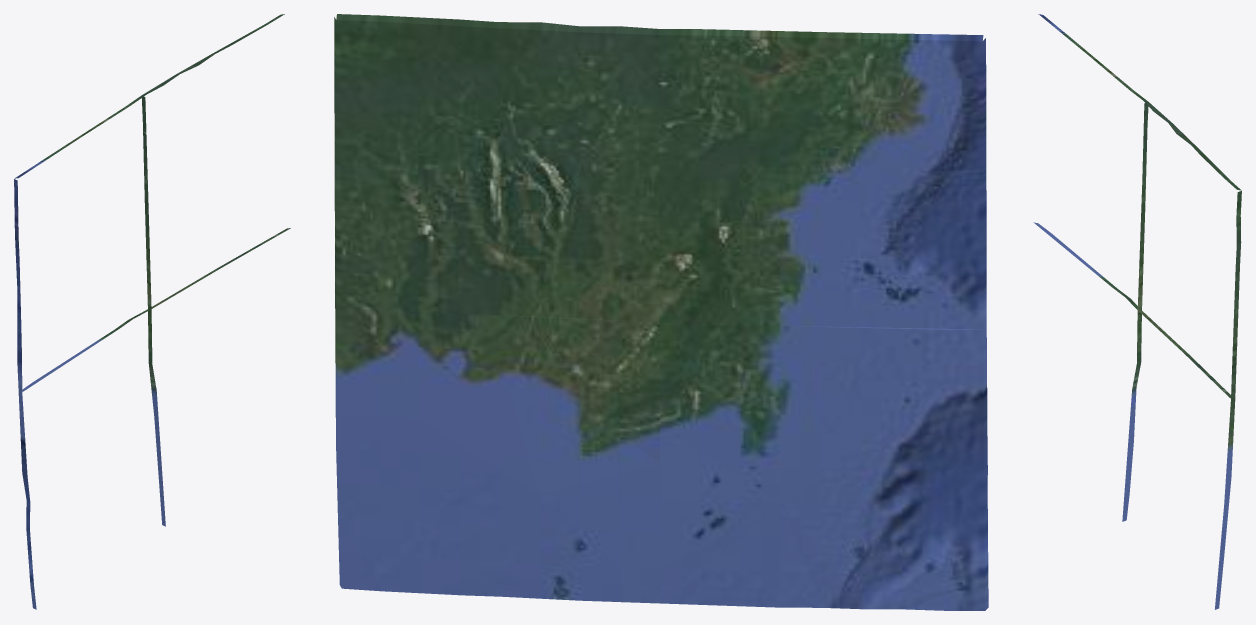
3 views of the same model, side by side, from view 1: azimuth 30°, elevation 25°; view 2: azimuth 150°, elevation 25°; view 3: azimuth 270°, elevation 25° (orthographic). The views are drawn at different scales.
Size of the model in its own units: 583748 by 628193 by 306518.
Materials: 1 (1 with a texture image).
